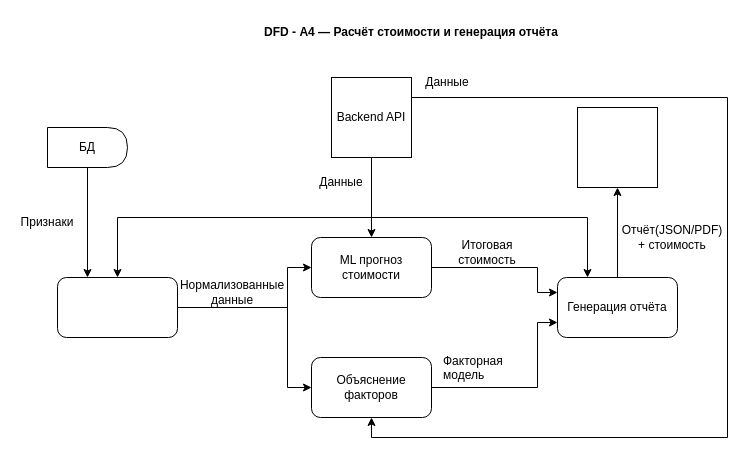
Some shapes in this 753 by 463 pixel diagram are drawn without their labels. The shapes that lost their labels are listed below. From the top down, each one's box as (x1, y1, x2, y2) in pixels, then its label:
(576, 106, 658, 188): Пользователь
(56, 276, 178, 338): Нормализация признаков
